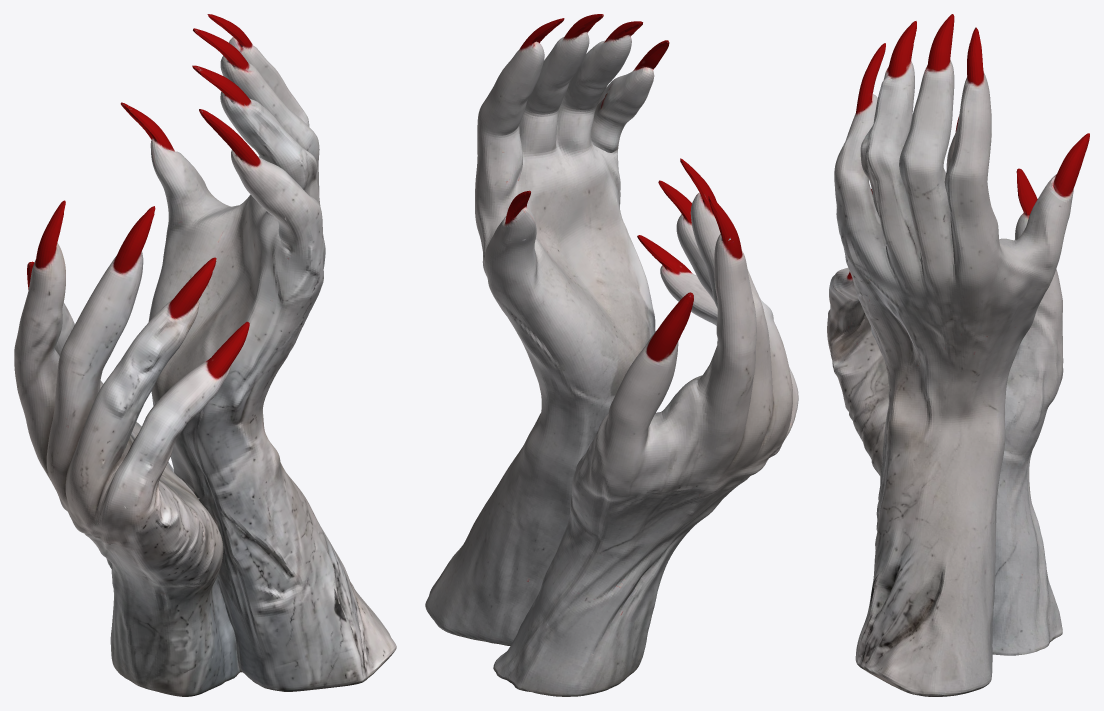
The model's file is nail.glb.
3 views of the same model, side by side, from view 1: azimuth 30°, elevation 25°; view 2: azimuth 150°, elevation 25°; view 3: azimuth 270°, elevation 25° (orthographic). The views are drawn at different scales.
Parts seen in each view (by area): view 1: temp; view 2: temp; view 3: temp.
Part boxes in pixels (x1=…): temp: x1=14, y1=14, x2=396, y2=696; temp: x1=425, y1=14, x2=798, y2=696; temp: x1=827, y1=14, x2=1089, y2=696.
Bounding box in the file's own units: 0.3903 × 0.6991 × 0.2738.
1 material, 1 textured.
